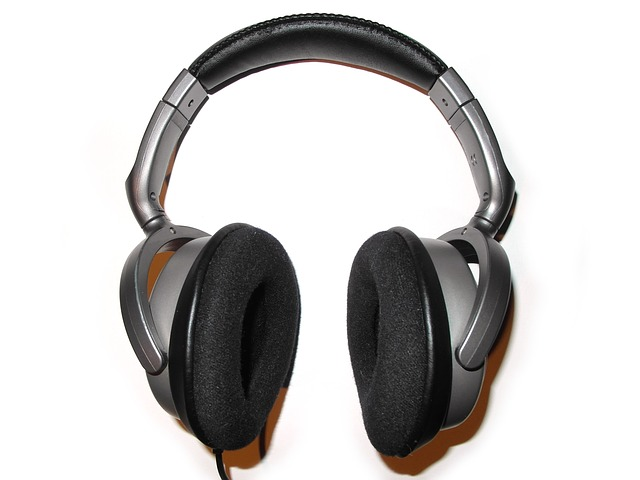headphones: (120, 13, 515, 459)
